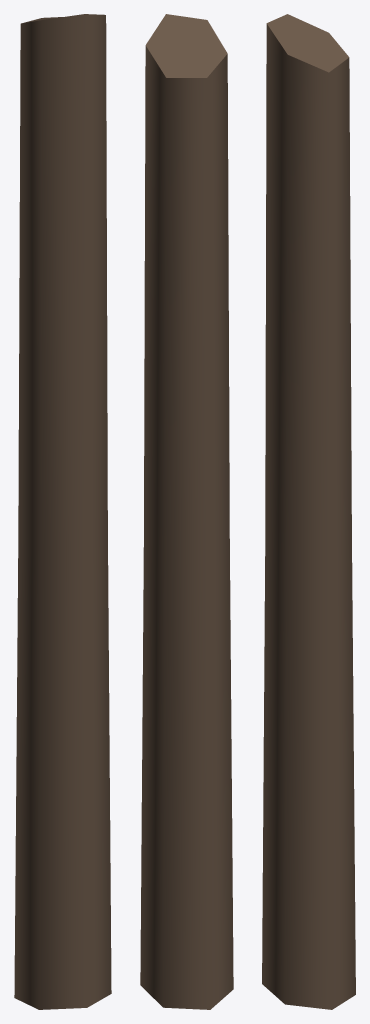
Rendered from fence-post-3.glb.
The picture shows the model from 3 angles, left to right: view 1: azimuth 30°, elevation 25°; view 2: azimuth 210°, elevation 25°; view 3: azimuth 270°, elevation 25°; orthographic projection. The views are drawn at different scales.
Visible parts, largest first — view 1: fence-post-3; view 2: fence-post-3; view 3: fence-post-3.
Boxes of the visible parts, box(x1,y1,x2,y2) form: fence-post-3: box(14, 14, 111, 1009); fence-post-3: box(140, 14, 233, 1009); fence-post-3: box(262, 14, 355, 1009).
Bounding box in the file's own units: 0.1153 × 1.51 × 0.1323.
